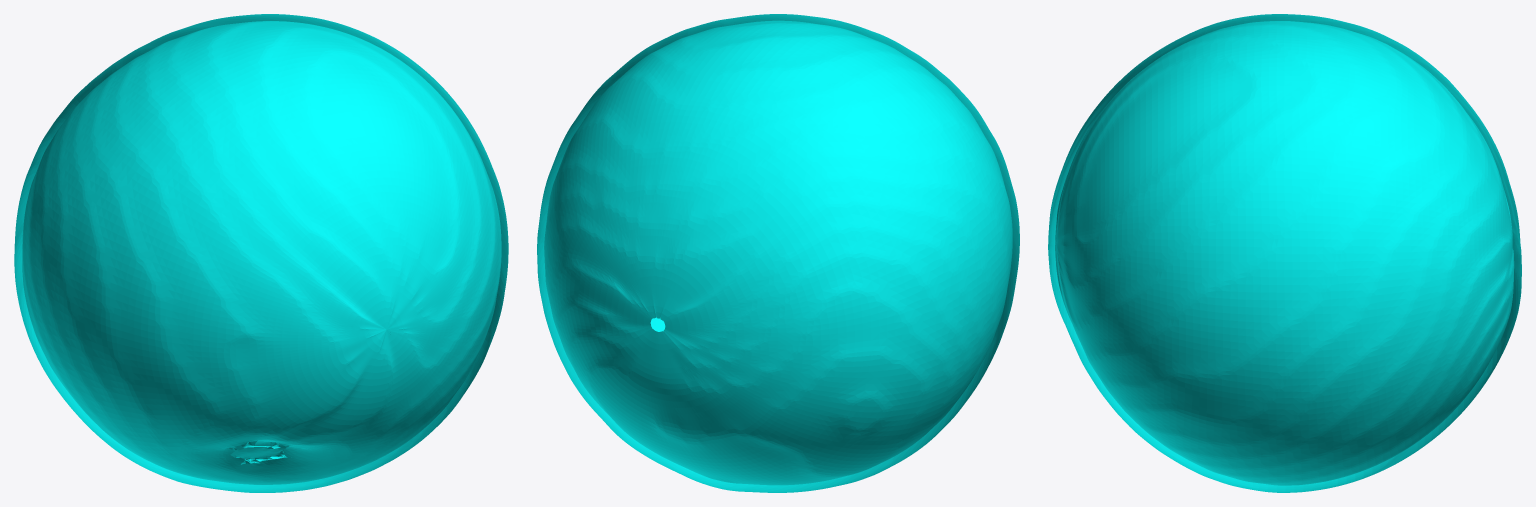
3 renders of one model, left to right at view 1: azimuth 30°, elevation 25°; view 2: azimuth 150°, elevation 25°; view 3: azimuth 270°, elevation 25°, orthographic. The views are drawn at different scales.
Parts seen in each view (by area): view 1: Renderer Node; view 2: Renderer Node; view 3: Renderer Node.
Boxes of the visible parts, x1,y1,x2,y2 form: Renderer Node: (14,14,508,492); Renderer Node: (537,14,1019,492); Renderer Node: (1048,14,1521,492).
Bounding box in the file's own units: 1.91e+15 × 1.91e+15 × 1.91e+15.
